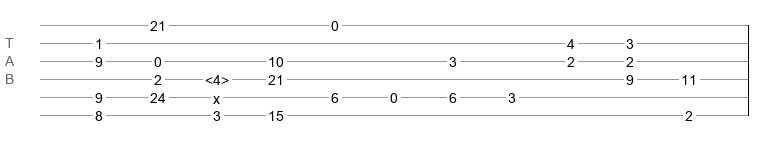0: (154, 54, 162, 64), (331, 18, 339, 28), (390, 90, 398, 100)
1: (95, 36, 103, 46)
10: (268, 54, 284, 64)
11: (681, 72, 697, 82)
15: (268, 108, 284, 118)
2: (154, 72, 162, 82), (567, 54, 575, 64), (626, 54, 634, 64), (685, 108, 693, 118)
21: (150, 18, 166, 28), (268, 72, 284, 82)
24: (150, 90, 166, 100)
3: (213, 108, 221, 118), (449, 54, 457, 64), (508, 90, 516, 100), (626, 36, 634, 46)
4: (567, 36, 575, 46)
6: (331, 90, 339, 100), (449, 90, 457, 100)
8: (95, 108, 103, 118)
9: (95, 54, 103, 64), (95, 90, 103, 100), (626, 72, 634, 82)
harmonic: (205, 72, 229, 82)
x: (213, 91, 220, 99)
